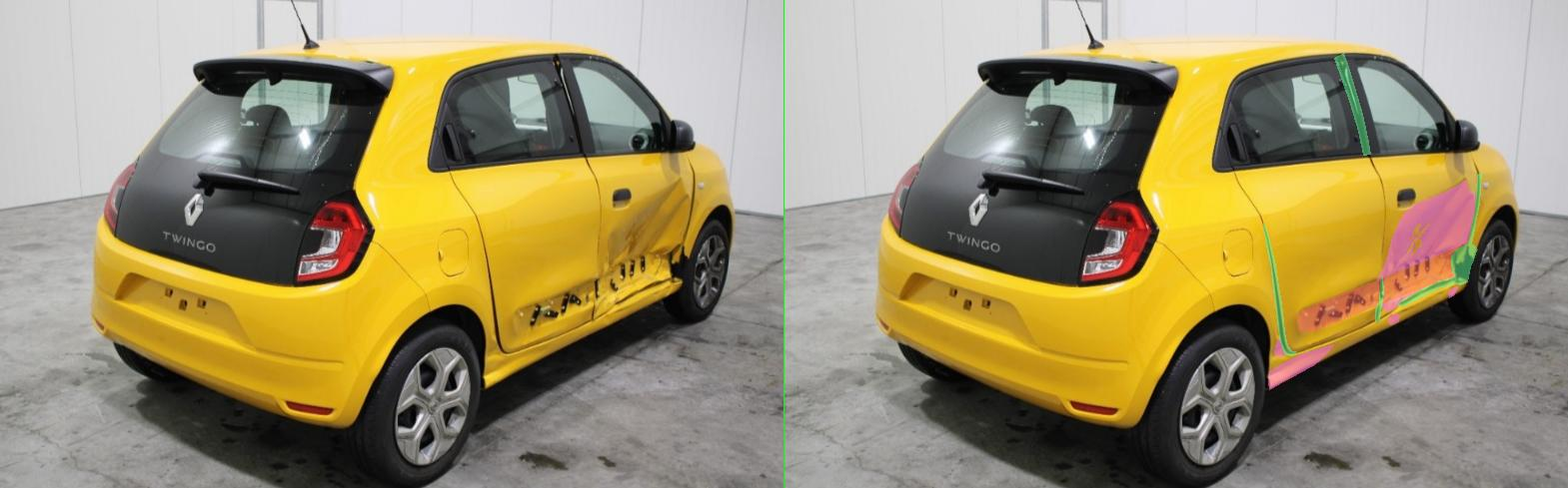Broken part: (1228, 172, 1394, 305), (958, 223, 1024, 355), (1100, 53, 1172, 155), (1182, 276, 1198, 321)
Dent: (1174, 180, 1386, 311), (968, 344, 1098, 389), (980, 337, 1006, 356), (1208, 313, 1230, 324), (1328, 286, 1346, 297)
Missing part: (1026, 244, 1360, 331)
Paint chip: (1246, 223, 1290, 255)
